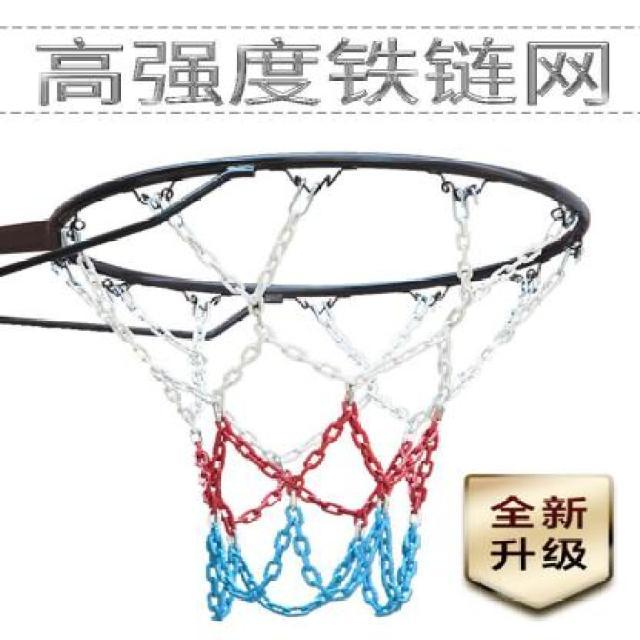rim: (51, 148, 590, 610)
